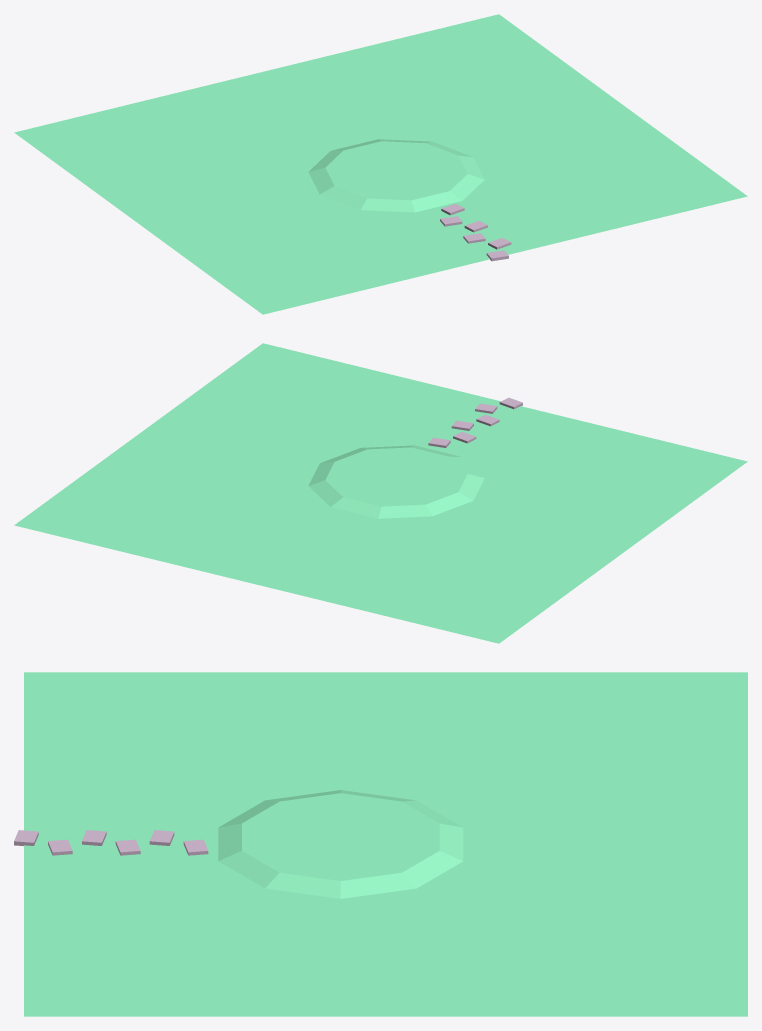
File: ground.glb
The picture shows the model from 3 angles, top to bottom: view 1: azimuth 30°, elevation 25°; view 2: azimuth 150°, elevation 25°; view 3: azimuth 270°, elevation 25°; orthographic projection. The views are drawn at different scales.
Parts seen in each view (by area): view 1: Plain, Knoll; view 2: Plain, Knoll; view 3: Plain, Knoll.
Part boxes in pixels (<box>): Plain: <box>14,14,747,314</box>; Knoll: <box>308,139,484,212</box>; Plain: <box>14,343,747,643</box>; Knoll: <box>308,445,484,518</box>; Plain: <box>24,672,747,1016</box>; Knoll: <box>218,790,463,898</box>.
Size of the model in its own units: 18 by 0.36 by 16.22.
